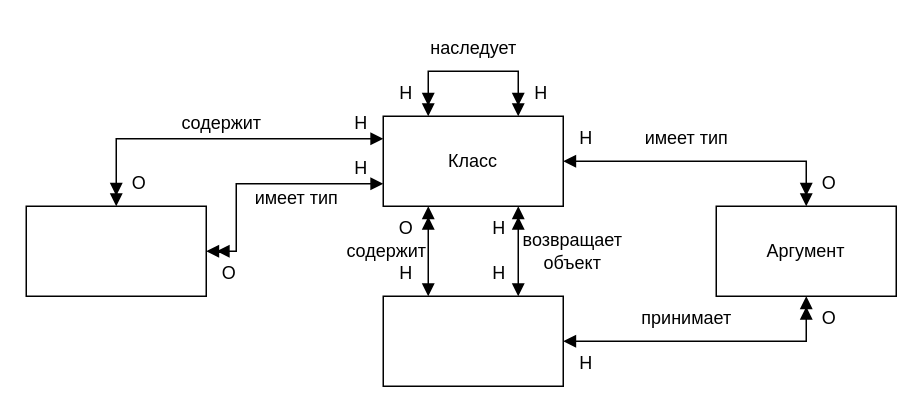
Some shapes in this 923 by 413 pixel diagram are drawn without their labels. The shapes that lost their labels are listed below. From the top down, each one's centre as x and y in pixels, then its label:
point (115, 250): Член класса
point (472, 340): Метод
